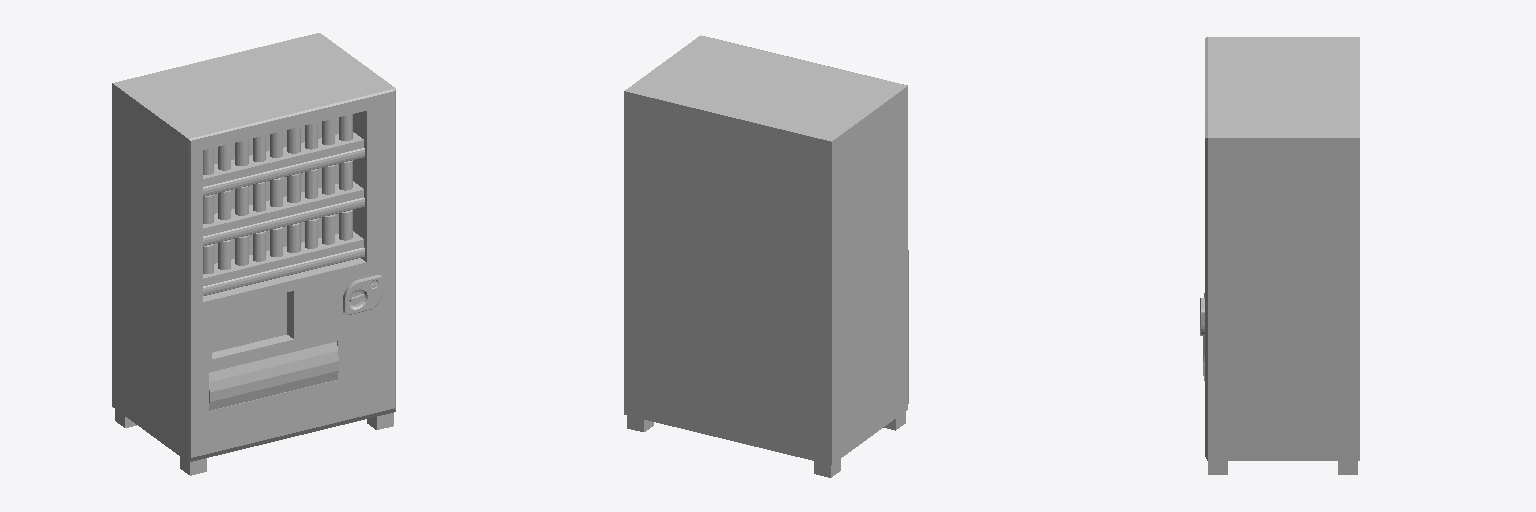
File: Vending_Prototype.obj
The picture shows the model from 3 angles: view 1: azimuth 30°, elevation 25°; view 2: azimuth 150°, elevation 25°; view 3: azimuth 270°, elevation 25°; orthographic projection.
Parts seen in each view (by area): view 1: Plane, cut_Cube.004, Cylinder.001_Cylinder, Cylinder.000_Cylinder, Cylinder.002_Cylinder, Cube.001_Cube.005, Cube_Cube.005, Cube.002_Cube.005, Plane.003_Plane.001, Plane.001, Plane.002_Plane.001, CashMoney_Cylinder.019 (+1 smaller); view 2: Plane, Cube.003_Cube.006; view 3: Plane, Cube.003_Cube.006.
Part boxes in pixels (bbox=[...]): Plane: bbox=[112, 33, 395, 462]; cut_Cube.004: bbox=[209, 342, 338, 410]; Cylinder.001_Cylinder: bbox=[203, 210, 352, 273]; Cylinder.000_Cylinder: bbox=[203, 160, 352, 223]; Cylinder.002_Cylinder: bbox=[203, 114, 352, 174]; Cube.001_Cube.005: bbox=[203, 181, 363, 235]; Cube_Cube.005: bbox=[203, 231, 363, 285]; Cube.002_Cube.005: bbox=[203, 132, 363, 186]; Plane.003_Plane.001: bbox=[203, 148, 364, 196]; Plane.001: bbox=[203, 247, 364, 295]; Plane.002_Plane.001: bbox=[203, 197, 364, 245]; CashMoney_Cylinder.019: bbox=[343, 275, 382, 314]; Plane: bbox=[624, 35, 908, 464]; Cube.003_Cube.006: bbox=[627, 411, 905, 477]; Plane: bbox=[1205, 37, 1359, 460]; Cube.003_Cube.006: bbox=[1208, 461, 1357, 474].
Bounding box in the file's own units: 2.45 × 3.81 × 1.63.